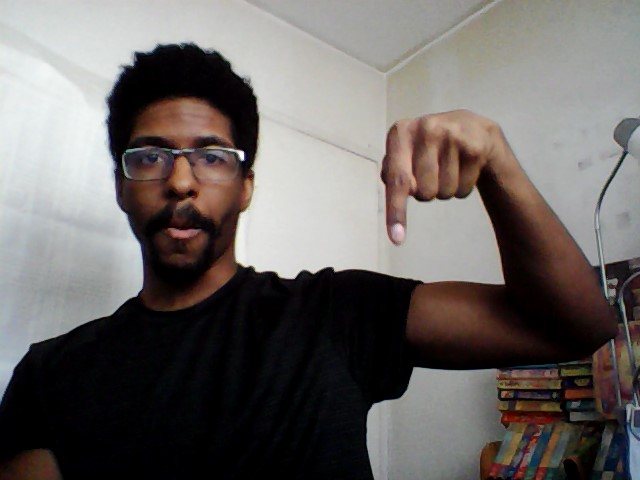q: (376, 105, 506, 250)
